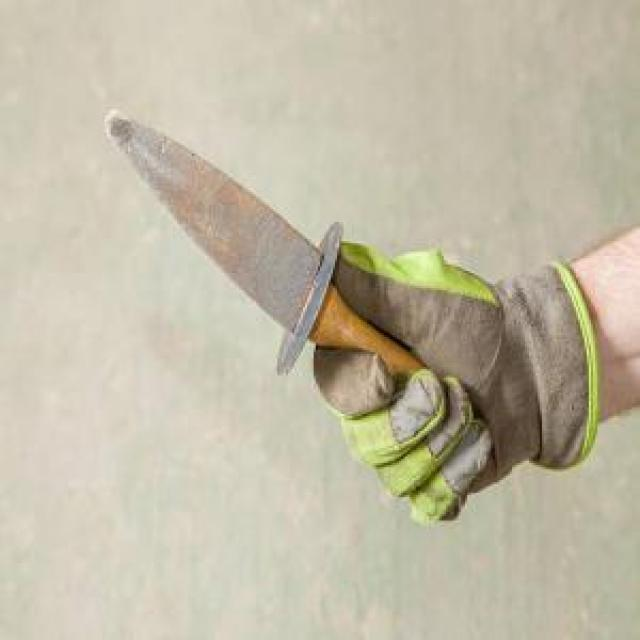knife: (98, 98, 447, 427)
